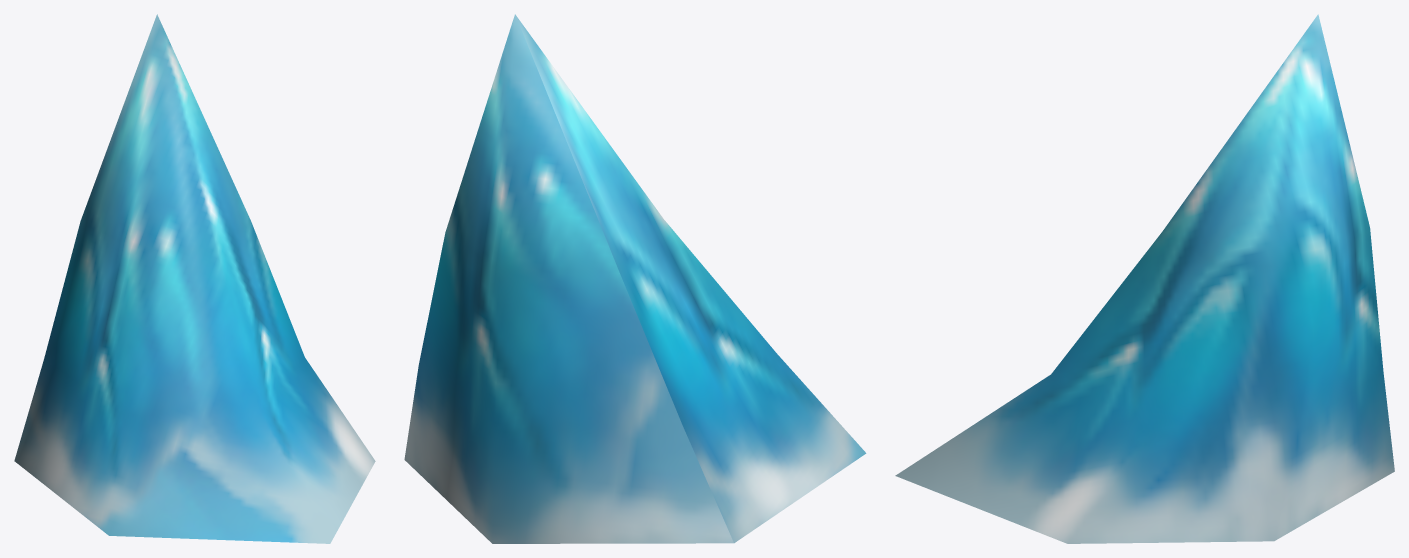
The model's file is BingZui01.FBX.
3 views of the same model, side by side, from view 1: azimuth 30°, elevation 25°; view 2: azimuth 150°, elevation 25°; view 3: azimuth 270°, elevation 25° (orthographic). The views are drawn at different scales.
Parts seen in each view (by area): view 1: BingZui01; view 2: BingZui01; view 3: BingZui01.
Boxes of the visible parts, bbox=[...] form: BingZui01: bbox=[14, 14, 375, 543]; BingZui01: bbox=[404, 14, 866, 543]; BingZui01: bbox=[895, 14, 1394, 543].
Bounding box in the file's own units: 96.62 × 132 × 129.
